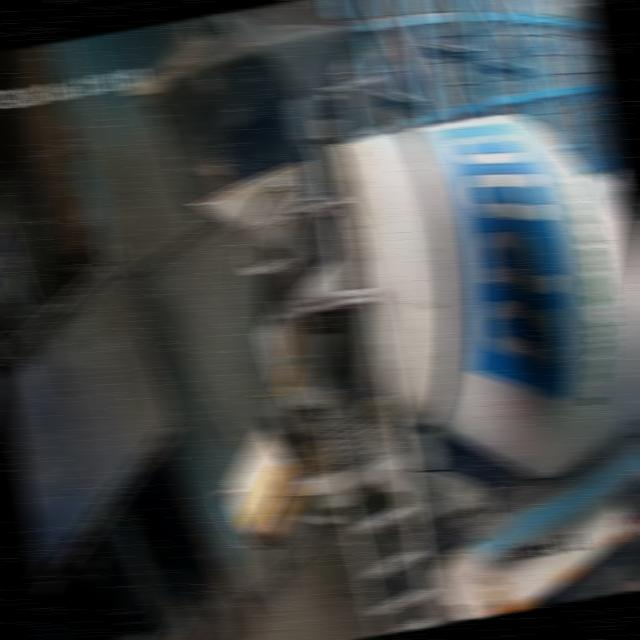cement_mixer_truck: (183, 91, 640, 640)
